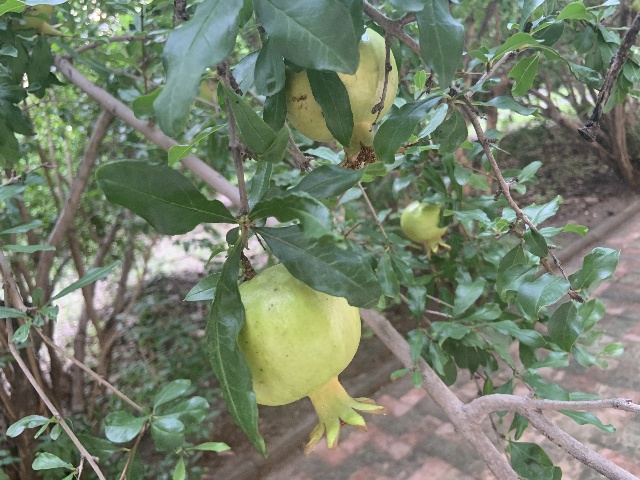mid-growth: (237, 263, 387, 455), (285, 25, 406, 167), (400, 200, 451, 260)
